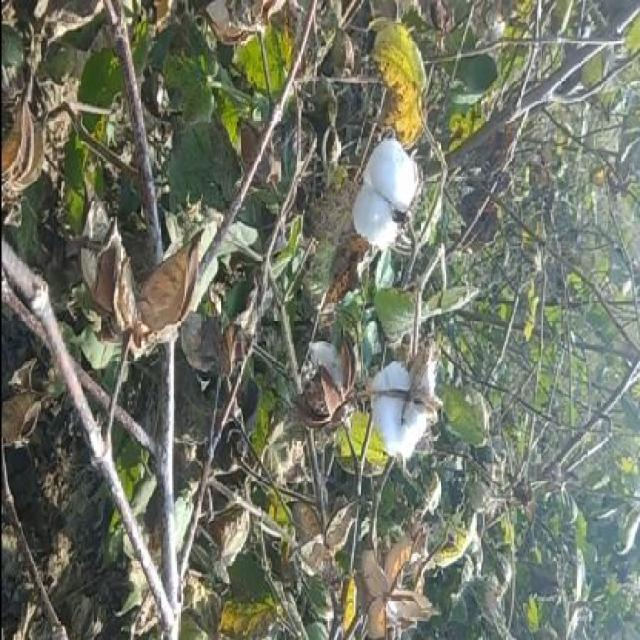cotton_ready: (333, 103, 418, 279), (350, 337, 441, 478)
